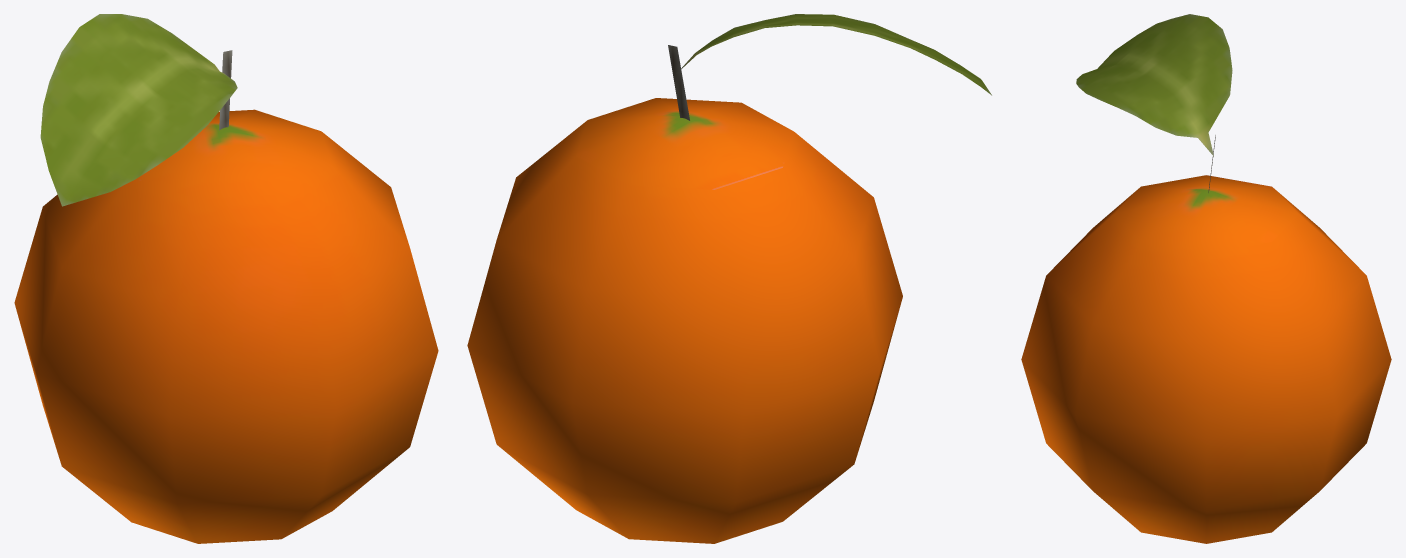
File: field_item003.dae
The picture shows the model from 3 angles, left to right: view 1: azimuth 30°, elevation 25°; view 2: azimuth 150°, elevation 25°; view 3: azimuth 270°, elevation 25°; orthographic projection. The views are drawn at different scales.
Parts seen in each view (by area): view 1: um_field_item003_model_field_item003_modelShape; view 2: um_field_item003_model_field_item003_modelShape; view 3: um_field_item003_model_field_item003_modelShape.
Boxes of the visible parts, left/top/right/bottom form: um_field_item003_model_field_item003_modelShape: left=14, top=14, right=438, bottom=543; um_field_item003_model_field_item003_modelShape: left=467, top=14, right=991, bottom=543; um_field_item003_model_field_item003_modelShape: left=1021, top=14, right=1391, bottom=543.
Bounding box in the file's own units: 15.47 × 13.93 × 18.67.
1 material, 1 textured.
